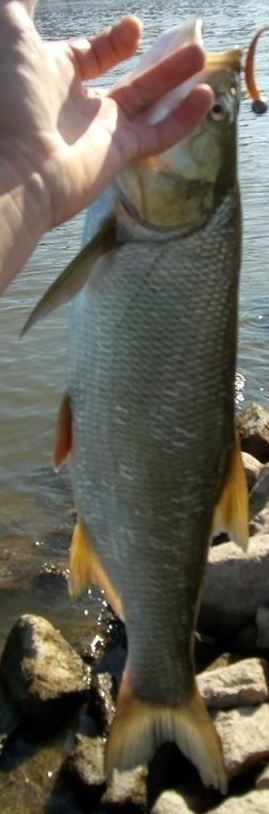Aspius aspius: (20, 20, 249, 794)
